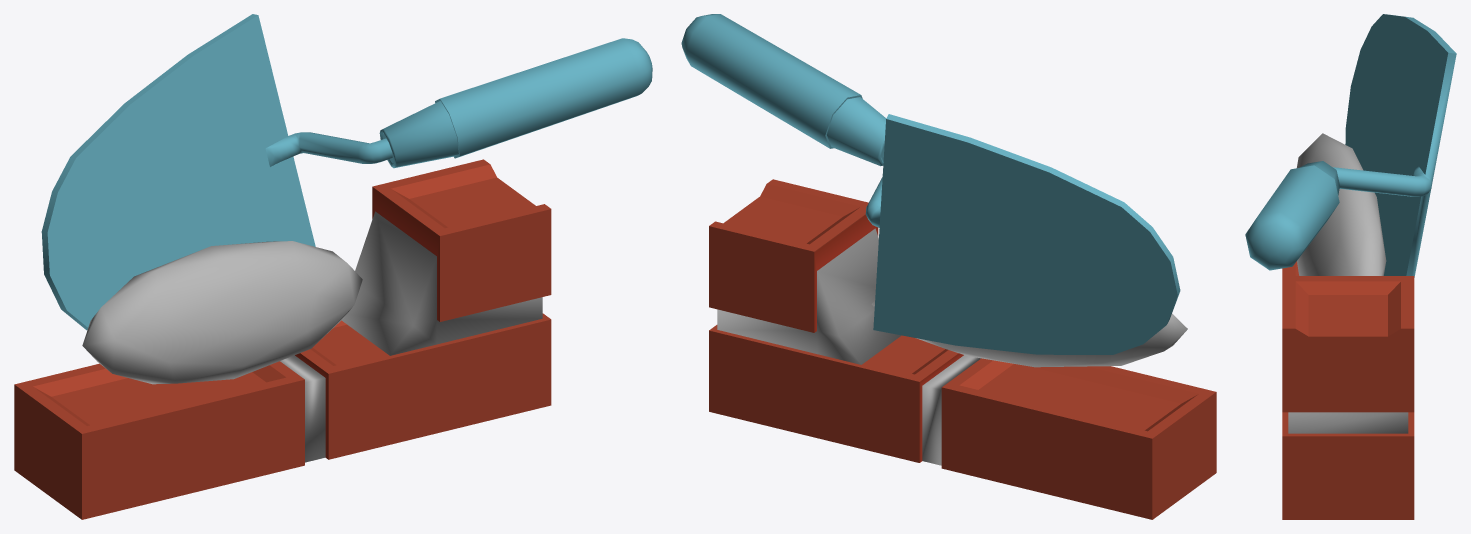
The model's file is 41298a75-fddd-47b3-abf2-612237a36473.glb.
3 renders of one model, left to right at view 1: azimuth 30°, elevation 25°; view 2: azimuth 150°, elevation 25°; view 3: azimuth 270°, elevation 25°, orthographic. The views are drawn at different scales.
Parts seen in each view (by area): view 1: IWBtrophyHallOfFame, Bricks, Brick, Cement; view 2: IWBtrophyHallOfFame, Bricks, Brick, Cement; view 3: IWBtrophyHallOfFame, Brick, Bricks, Cement.
Boxes of the visible parts, x1,y1,x2,y2 form: IWBtrophyHallOfFame: (41,14,652,330); Bricks: (14,313,551,519); Brick: (341,159,551,355); Cement: (82,241,362,384); IWBtrophyHallOfFame: (681,14,1180,354); Bricks: (709,325,1216,519); Brick: (709,179,901,364); Cement: (871,301,1187,367); IWBtrophyHallOfFame: (1245,14,1456,277); Brick: (1282,276,1414,433); Bricks: (1282,261,1414,519); Cement: (1297,133,1386,275).
Size of the model in its own units: 0.2401 by 0.1542 by 0.0802.
Materials: 2 (2 with a texture image).
